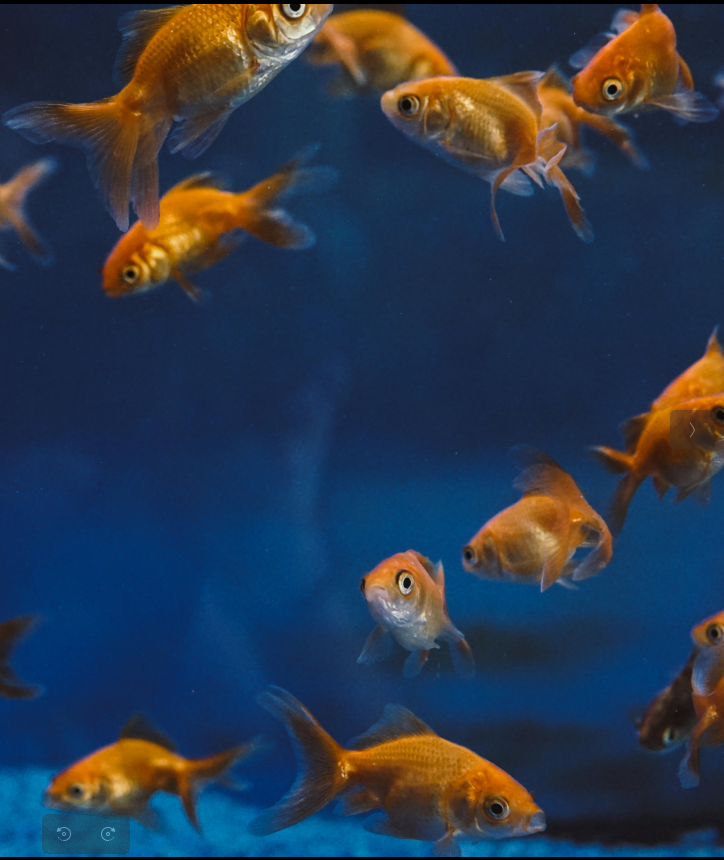fishSmall: (0, 2, 336, 233), (249, 683, 549, 858), (370, 69, 594, 244), (92, 143, 335, 303), (41, 714, 261, 840), (460, 443, 612, 596), (585, 400, 722, 536), (568, 2, 715, 120), (354, 546, 478, 684), (624, 650, 705, 756), (650, 328, 723, 416), (689, 609, 724, 655)
